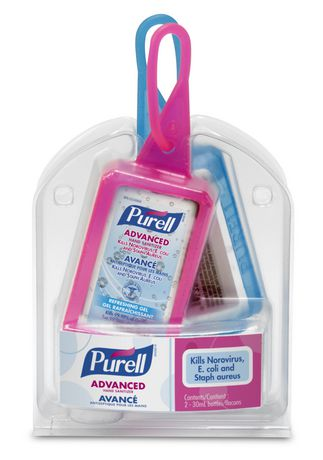Sanitizer: (59, 163, 211, 337)
